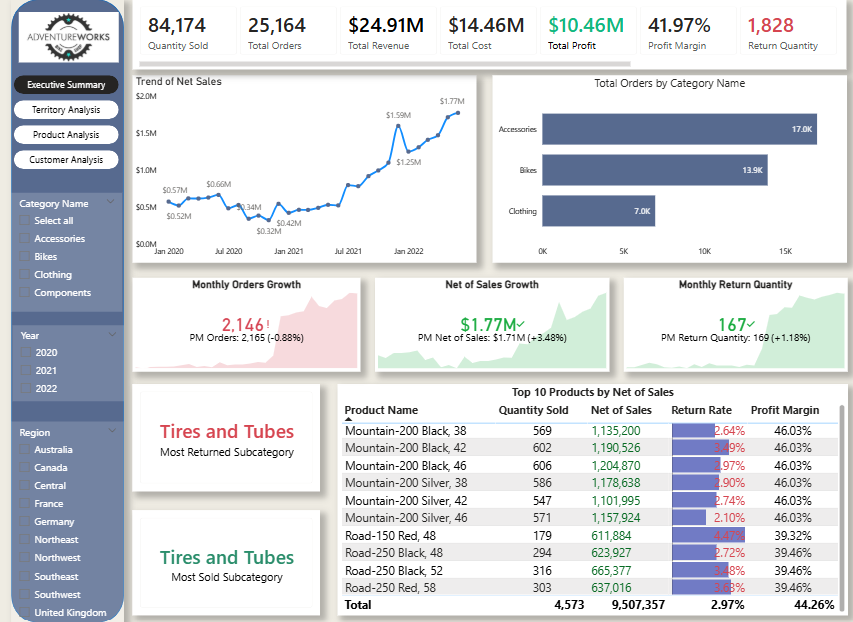

The dashboard page shown, as its layout file describes it:
{"tool":"powerbi","page":{"name":"Executive Summary","canvas":[1400,1000],"ordinal":0},"visuals":[{"type":"shape","box":[17.6,0,180.4,1000],"z":0},{"type":"image","box":[30,0,160,122.5],"z":1000},{"type":"lineChart","title":"Trend of Net Sales","fields":{"Category":["DimDate.Start of the Month"],"Y":["_Measures.Net of Sales"]},"box":[212.5,122.5,550,300],"z":2000},{"type":"slicer","fields":{"Values":["DimProduct Categories.Category Name"]},"box":[15.7,327.1,178.6,190],"z":3000},{"type":"cardVisual","fields":{"Data":["_Measures.Quantity Sold","_Measures.Total Orders","_Measures.Total Revenue","_Measures.Total Cost","_Measures.Profit","_Measures.Profit Margin","_Measures.Return Quantity","_Measures.Return Rate","_Measures.Net Profit","_Measures.Net of Sales"]},"box":[212.5,0,1142.5,112.5],"z":4000},{"type":"clusteredBarChart","fields":{"Category":["DimProduct Categories.Category Name"],"Y":["_Measures.Total Orders"]},"box":[787.5,122.5,567.5,300],"z":5000},{"type":"tableEx","title":"Top 10 Products by Net of Sales","fields":{"Values":["DimProduct.Product Name","_Measures.Quantity Sold","_Measures.Net of Sales","_Measures.Return Rate","_Measures.Profit Margin"]},"box":[540,640,816,346],"z":6000},{"type":"cardVisual","fields":{"Data":["Min(DimProduct Subcategories.Subcategory Name)"]},"box":[212,834,300,152],"z":7000},{"type":"cardVisual","fields":{"Data":["Min(DimProduct Subcategories.Subcategory Name)"]},"box":[212,640,300,156],"z":8000},{"type":"slicer","fields":{"Values":["DimDate.Year"]},"box":[17.1,500,177.1,157.1],"z":9000},{"type":"slicer","fields":{"Values":["DimTerritory.Region"]},"box":[20,640,177.5,360],"z":10000},{"type":"kpi","title":"Monthly Orders Growth","fields":{"Indicator":["_Measures.Total Orders"],"TrendLine":["DimDate.Start of the Month"],"Goal":["_Measures.PM Orders"]},"box":[212.9,452.9,365.7,150],"z":11000},{"type":"kpi","title":"Net of Sales Growth","fields":{"TrendLine":["DimDate.Start of the Month"],"Indicator":["_Measures.Net of Sales"],"Goal":["_Measures.PM Net of Sales"]},"box":[600,452.9,374.3,150],"z":12000},{"type":"kpi","title":"Monthly Return Quantity","fields":{"TrendLine":["DimDate.Start of the Month"],"Indicator":["_Measures.Return Quantity"],"Goal":["_Measures.PM Return Quantity"]},"box":[997.1,452.9,358.6,150],"z":13000},{"type":"pageNavigator","box":[21.4,122.9,168.6,150],"z":14000}]}

Visuals, with their boxes in screenshot pixels (x1, y1, x2, y2), scaled from the page's 1400x1000 canvas onto the 853x622 screenshot:
shape: bbox(11, 0, 121, 621)
image: bbox(18, 0, 116, 76)
"Trend of Net Sales" lineChart: bbox(129, 76, 465, 263)
slicer - DimProduct Categories.Category Name: bbox(10, 203, 118, 322)
cardVisual - _Measures.Quantity Sold x _Measures.Total Orders: bbox(129, 0, 826, 70)
clusteredBarChart - DimProduct Categories.Category Name x _Measures.Total Orders: bbox(480, 76, 826, 263)
"Top 10 Products by Net of Sales" tableEx: bbox(329, 398, 826, 613)
cardVisual - Min(DimProduct Subcategories.Subcategory Name): bbox(129, 519, 312, 613)
cardVisual - Min(DimProduct Subcategories.Subcategory Name): bbox(129, 398, 312, 495)
slicer - DimDate.Year: bbox(10, 311, 118, 409)
slicer - DimTerritory.Region: bbox(12, 398, 120, 621)
"Monthly Orders Growth" kpi: bbox(130, 282, 353, 375)
"Net of Sales Growth" kpi: bbox(366, 282, 594, 375)
"Monthly Return Quantity" kpi: bbox(608, 282, 826, 375)
pageNavigator: bbox(13, 76, 116, 170)
